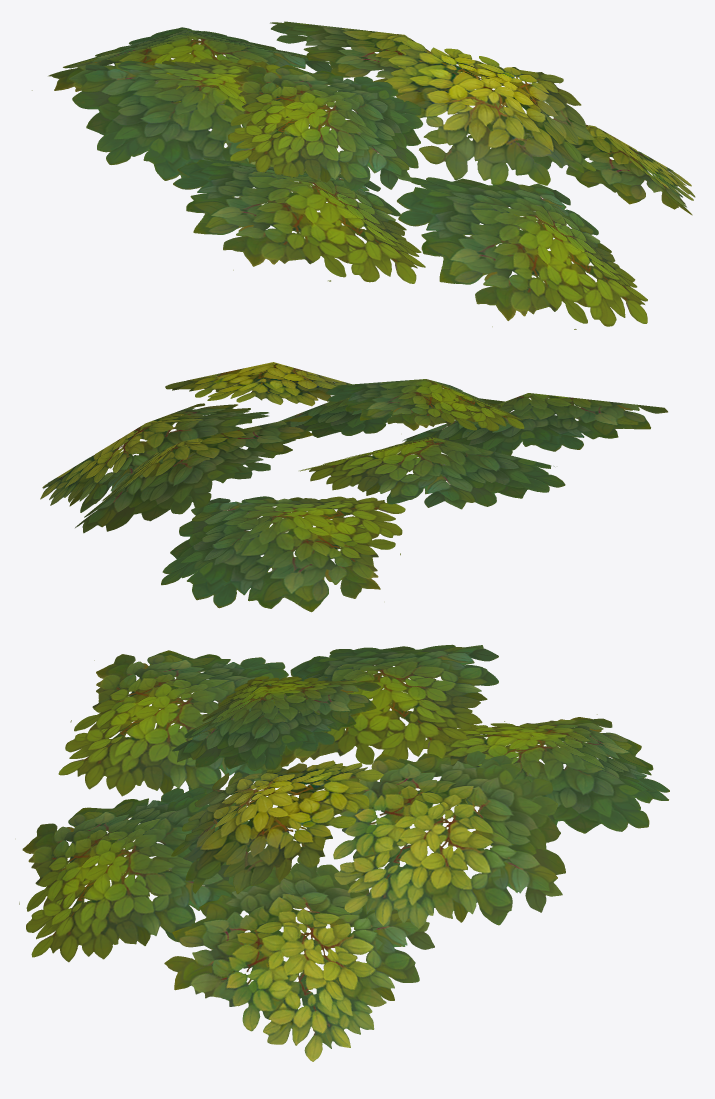
The model's file is selectshadow.FBX.
3 renders of one model, top to bottom at view 1: azimuth 30°, elevation 25°; view 2: azimuth 150°, elevation 25°; view 3: azimuth 270°, elevation 25°, orthographic. The views are drawn at different scales.
Visible parts, largest first — view 1: selectshadow; view 2: selectshadow; view 3: selectshadow.
Part boxes in pixels (<box>): selectshadow: <box>32,21,695,329</box>; selectshadow: <box>40,362,667,612</box>; selectshadow: <box>19,644,669,1061</box>.
Size of the model in its own units: 232 by 75.81 by 235.
1 material, 1 textured.
